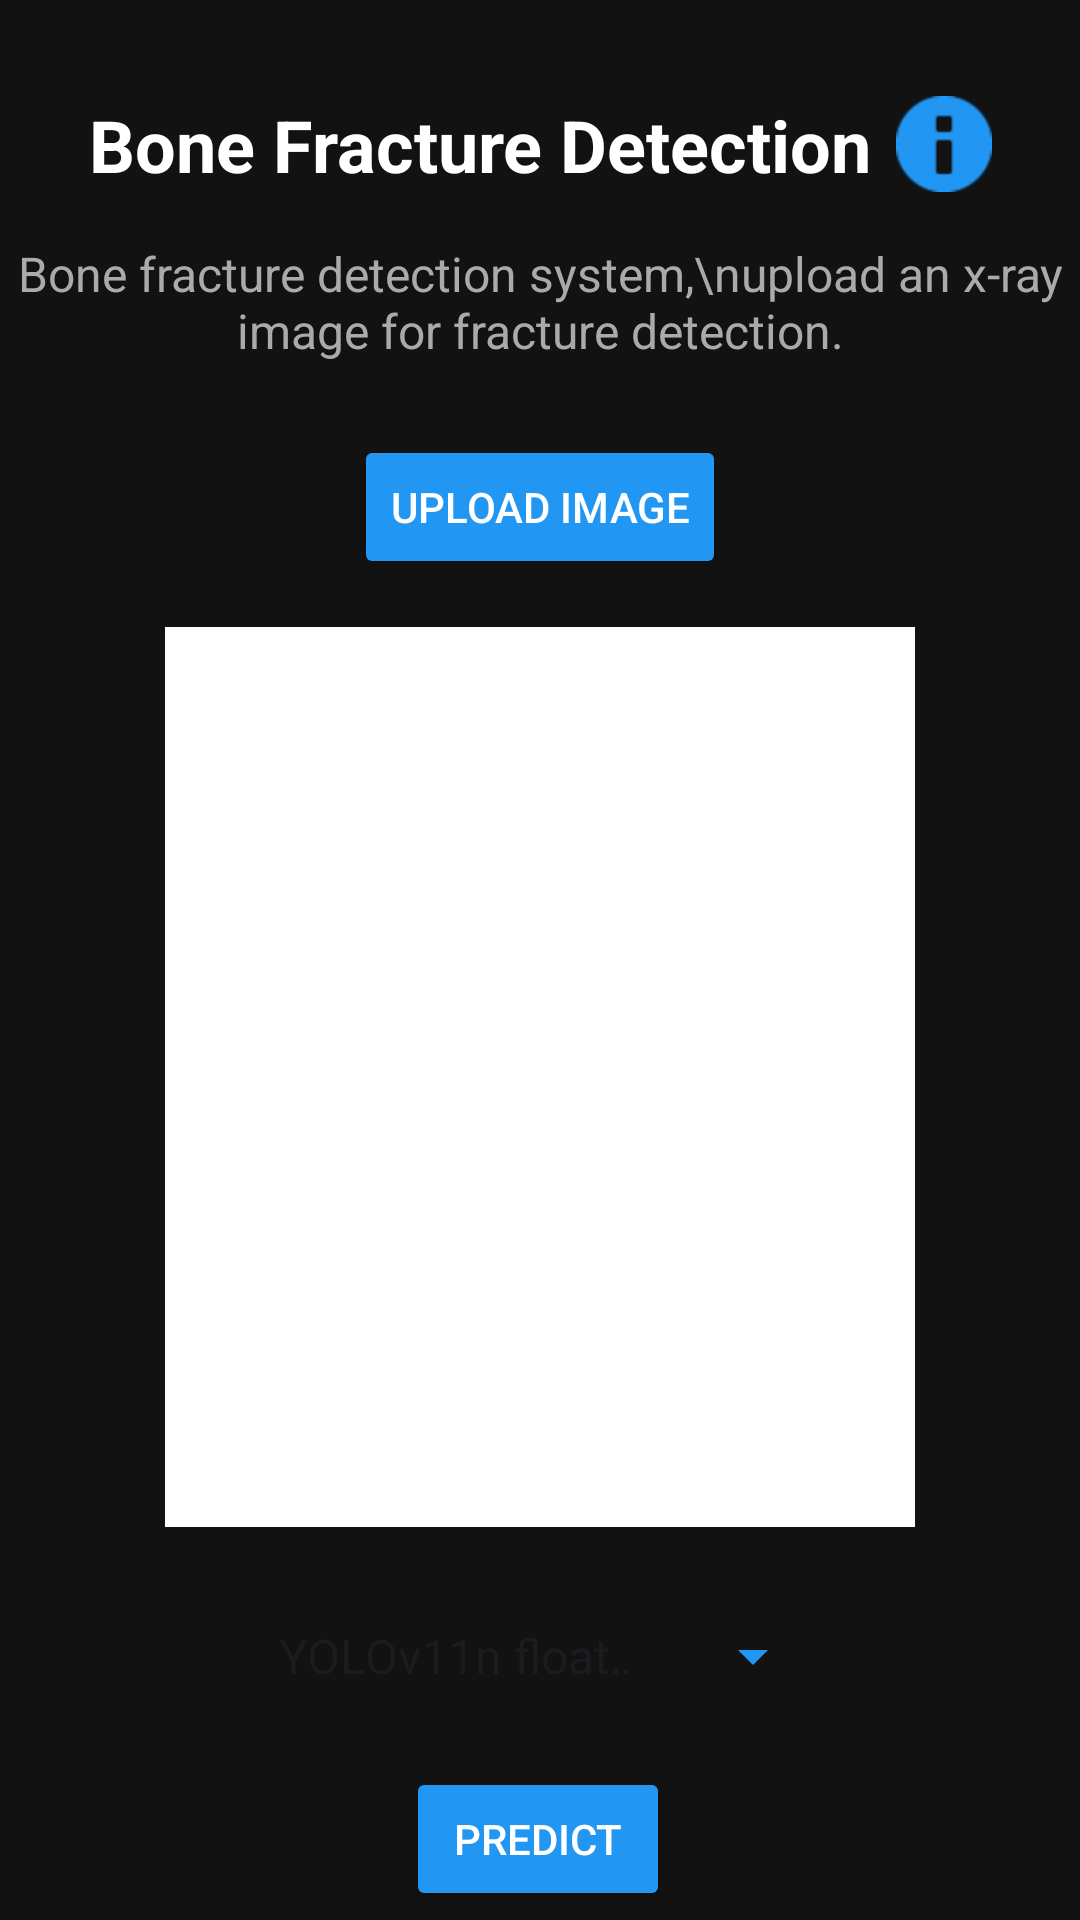

Icons on this 1080px×1920px Android screen, each with its box as (x1, y1, x2, y2):
Info: (896, 96, 992, 192)
